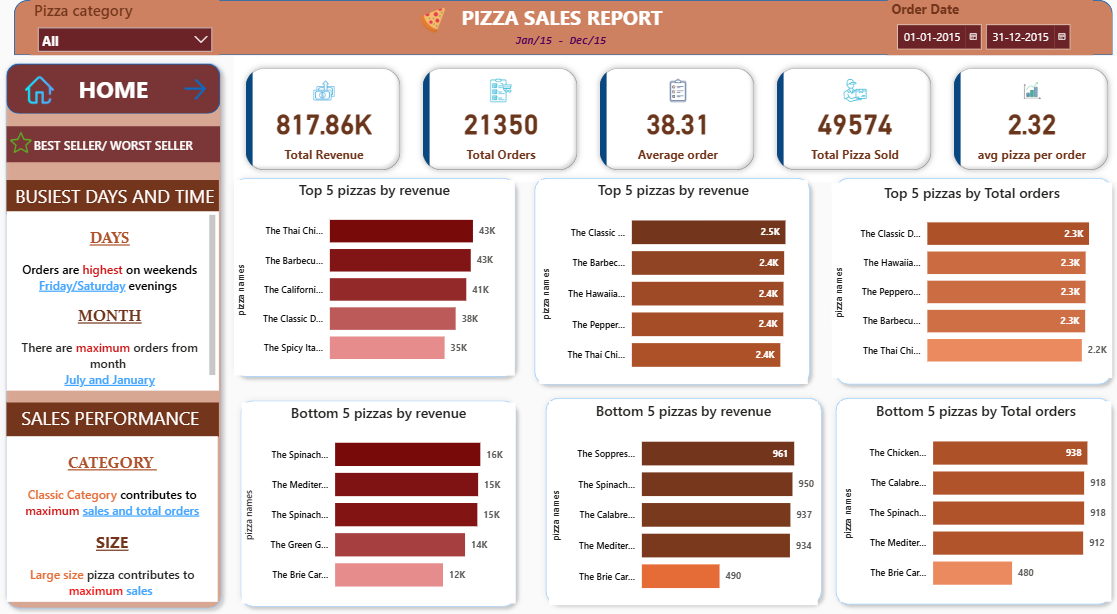

The page's visual inventory and layout, read from the dashboard file:
{"tool":"powerbi","page":{"name":"best/worst seller","canvas":[1500,820],"ordinal":1},"visuals":[{"type":"shape","box":[0,75.1,306,745.2],"z":0},{"type":"cardVisual","fields":{"Data":["pizza_sales.Total Revenue","pizza_sales.Total Orders","pizza_sales.Avg orders","pizza_sales.total pizza sold","pizza_sales.avg pizza per order"]},"box":[313.3,75,1186.7,168.3],"z":1000},{"type":"shape","box":[19.8,0,1464.9,73.7],"z":2000},{"type":"textbox","box":[612,0,293.3,49.6],"z":3000},{"type":"textbox","box":[668.7,39.7,161.5,34],"z":4000},{"type":"image","box":[545.4,5.7,66.6,43.9],"z":5000},{"type":"shape","box":[305.5,228.3,392.4,283],"z":6000},{"type":"shape","box":[705.5,228.1,385.4,293.3],"z":7000},{"type":"shape","box":[720.4,521,385.9,292.7],"z":8000},{"type":"textbox","box":[9.9,239.4,283.3,45.3],"z":9000},{"type":"textbox","title":"DAYS","box":[9.9,281.9,283.3,239.4],"z":10000},{"type":"textbox","box":[9.9,536.9,283.3,45.3],"z":11000},{"type":"textbox","box":[9.9,582.3,281.9,221],"z":12000},{"type":"shape","box":[313.1,524.2,385,293],"z":13000},{"type":"shape","box":[9.9,168.6,284.8,48.2],"z":14000},{"type":"image","box":[9.9,151.6,38.3,76.5],"z":15000},{"type":"shape","box":[9.9,85,284.8,66.6],"z":16000},{"type":"image","box":[29.8,0,48.2,239.4],"z":17000},{"type":"actionButton","box":[240.8,100.6,51,38.3],"z":18000},{"type":"slicer","title":"Pizza category","fields":{"Values":["pizza_sales.pizza_category"]},"box":[41.1,0,252.2,73.7],"z":19000},{"type":"slicer","title":"Order Date","fields":{"Values":["pizza_sales.order_date"]},"box":[1184.4,0,273.4,73.7],"z":20000},{"type":"shape","box":[1106.5,228.1,385.4,293.3],"z":21000},{"type":"shape","box":[1106.5,521.4,385.4,293.3],"z":22000},{"type":"barChart","title":"Top 5 pizzas by revenue","fields":{"Category":["pizza_sales.pizza_name"],"Y":["pizza_sales.Total Revenue"]},"box":[313.6,239.6,374.7,260.5],"z":23000},{"type":"barChart","title":"Bottom 5 pizzas by revenue","fields":{"Category":["pizza_sales.pizza_name"],"Y":["pizza_sales.Total Revenue"]},"box":[323,536.9,365.5,267.8],"z":24000},{"type":"barChart","title":"Top 5 pizzas by Total orders","fields":{"Category":["pizza_sales.pizza_name"],"Y":["pizza_sales.Total Orders"]},"box":[1109.6,242.8,374.7,260.5],"z":25000},{"type":"barChart","title":"Bottom 5 pizzas by Total orders","fields":{"Category":["pizza_sales.pizza_name"],"Y":["pizza_sales.Total Orders"]},"box":[1122.4,535.5,361.8,266.9],"z":26000},{"type":"barChart","title":"Top 5 pizzas by revenue","fields":{"Category":["pizza_sales.pizza_name"],"Y":["Sum(pizza_sales.quantity)"]},"box":[720.4,239.6,358.6,271.8],"z":27000},{"type":"barChart","title":"Bottom 5 pizzas by revenue","fields":{"Category":["pizza_sales.pizza_name"],"Y":["Sum(pizza_sales.quantity)"]},"box":[733.3,535.5,358.6,271.8],"z":28000}]}

Visuals, with their boxes in screenshot pixels (x1, y1, x2, y2), scaled from the page's 1500x820 canvas onto the 1117x614 screenshot:
shape: {"x1": 0, "y1": 56, "x2": 228, "y2": 613}
cardVisual - pizza_sales.Total Revenue x pizza_sales.Total Orders: {"x1": 233, "y1": 56, "x2": 1116, "y2": 182}
shape: {"x1": 15, "y1": 0, "x2": 1106, "y2": 55}
textbox: {"x1": 456, "y1": 0, "x2": 674, "y2": 37}
textbox: {"x1": 498, "y1": 30, "x2": 618, "y2": 55}
image: {"x1": 406, "y1": 4, "x2": 456, "y2": 37}
shape: {"x1": 227, "y1": 171, "x2": 520, "y2": 383}
shape: {"x1": 525, "y1": 171, "x2": 812, "y2": 390}
shape: {"x1": 536, "y1": 390, "x2": 824, "y2": 609}
textbox: {"x1": 7, "y1": 179, "x2": 218, "y2": 213}
"DAYS" textbox: {"x1": 7, "y1": 211, "x2": 218, "y2": 390}
textbox: {"x1": 7, "y1": 402, "x2": 218, "y2": 436}
textbox: {"x1": 7, "y1": 436, "x2": 217, "y2": 601}
shape: {"x1": 233, "y1": 393, "x2": 520, "y2": 612}
shape: {"x1": 7, "y1": 126, "x2": 219, "y2": 162}
image: {"x1": 7, "y1": 114, "x2": 36, "y2": 171}
shape: {"x1": 7, "y1": 64, "x2": 219, "y2": 114}
image: {"x1": 22, "y1": 0, "x2": 58, "y2": 179}
actionButton: {"x1": 179, "y1": 75, "x2": 217, "y2": 104}
"Pizza category" slicer: {"x1": 31, "y1": 0, "x2": 218, "y2": 55}
"Order Date" slicer: {"x1": 882, "y1": 0, "x2": 1086, "y2": 55}
shape: {"x1": 824, "y1": 171, "x2": 1111, "y2": 390}
shape: {"x1": 824, "y1": 390, "x2": 1111, "y2": 610}
"Top 5 pizzas by revenue" barChart: {"x1": 234, "y1": 179, "x2": 513, "y2": 374}
"Bottom 5 pizzas by revenue" barChart: {"x1": 241, "y1": 402, "x2": 513, "y2": 603}
"Top 5 pizzas by Total orders" barChart: {"x1": 826, "y1": 182, "x2": 1105, "y2": 377}
"Bottom 5 pizzas by Total orders" barChart: {"x1": 836, "y1": 401, "x2": 1105, "y2": 601}
"Top 5 pizzas by revenue" barChart: {"x1": 536, "y1": 179, "x2": 803, "y2": 383}
"Bottom 5 pizzas by revenue" barChart: {"x1": 546, "y1": 401, "x2": 813, "y2": 604}
